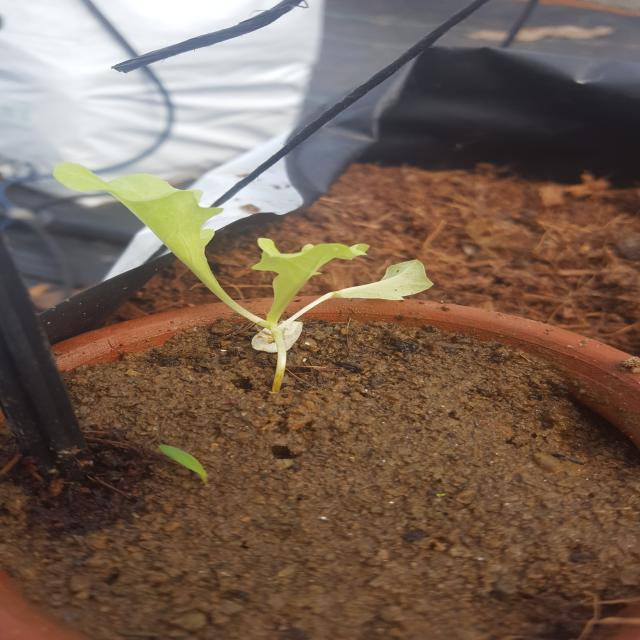Lettuce-Not-Ready-to-Harvest: (54, 165, 431, 392)
